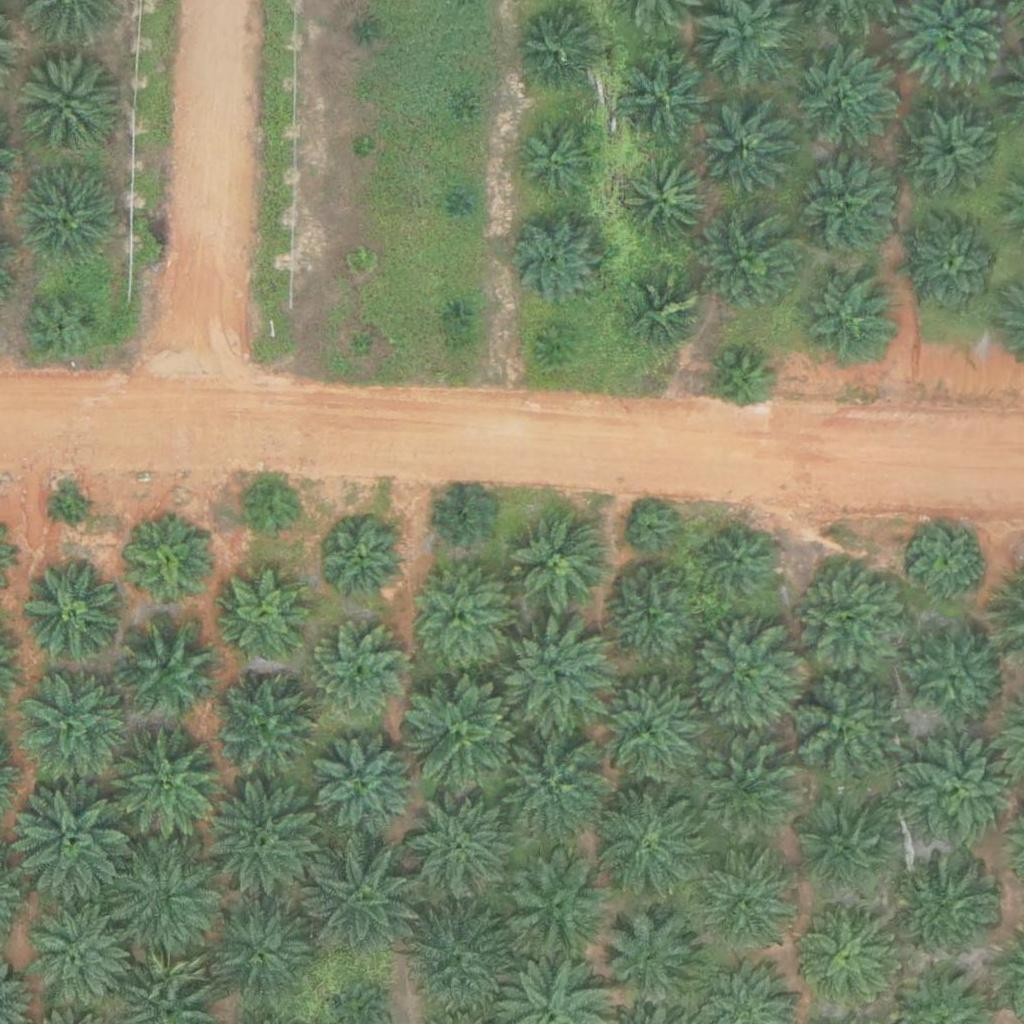Kelapa_Sawit: (7, 781, 132, 907), (100, 838, 225, 964), (196, 780, 321, 906), (301, 839, 426, 965), (402, 670, 527, 796), (485, 719, 610, 845), (590, 781, 715, 907), (790, 554, 915, 680), (778, 665, 903, 791), (898, 729, 1023, 855), (586, 673, 711, 798), (110, 729, 223, 843), (210, 670, 323, 784), (202, 897, 315, 1010), (499, 619, 612, 732), (500, 851, 613, 964), (595, 907, 708, 1020), (499, 204, 611, 317), (16, 664, 128, 777), (19, 900, 131, 1013), (310, 731, 422, 844), (401, 788, 513, 901), (688, 622, 800, 735), (689, 734, 801, 847), (613, 46, 713, 147), (700, 213, 800, 314), (794, 158, 894, 259), (799, 268, 899, 369), (306, 624, 406, 725), (410, 565, 510, 666), (510, 513, 610, 614), (599, 567, 699, 668), (798, 801, 898, 902), (799, 902, 899, 1003), (906, 857, 1006, 958), (794, 50, 894, 150), (905, 217, 1005, 317), (15, 53, 115, 153), (20, 167, 120, 267), (23, 559, 123, 659), (118, 617, 218, 717), (904, 626, 1004, 726), (517, 115, 605, 204), (902, 109, 990, 197), (514, 7, 602, 95), (623, 159, 711, 247), (221, 569, 309, 657), (320, 518, 408, 606), (701, 857, 789, 945), (703, 111, 790, 199), (127, 523, 214, 611), (26, 289, 101, 365), (911, 523, 986, 599), (630, 277, 705, 352), (702, 526, 777, 601), (709, 350, 772, 413), (432, 488, 495, 551), (242, 481, 304, 544), (627, 505, 677, 555), (539, 326, 577, 364), (54, 489, 91, 527), (449, 102, 474, 127), (355, 19, 380, 44), (351, 137, 376, 162), (347, 249, 372, 274), (350, 333, 375, 358), (450, 191, 475, 216), (443, 301, 468, 326)
